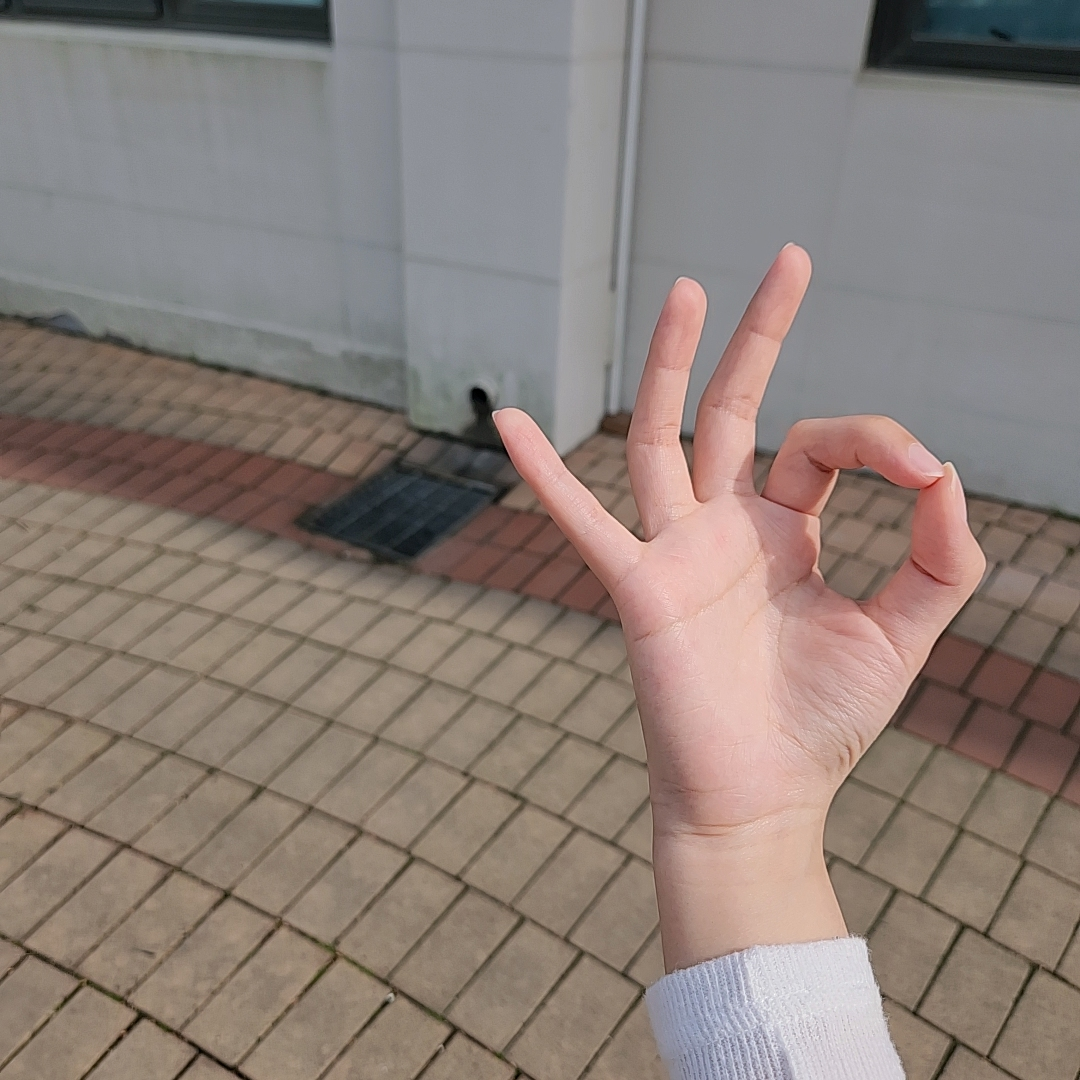see: (491, 243, 988, 796)
